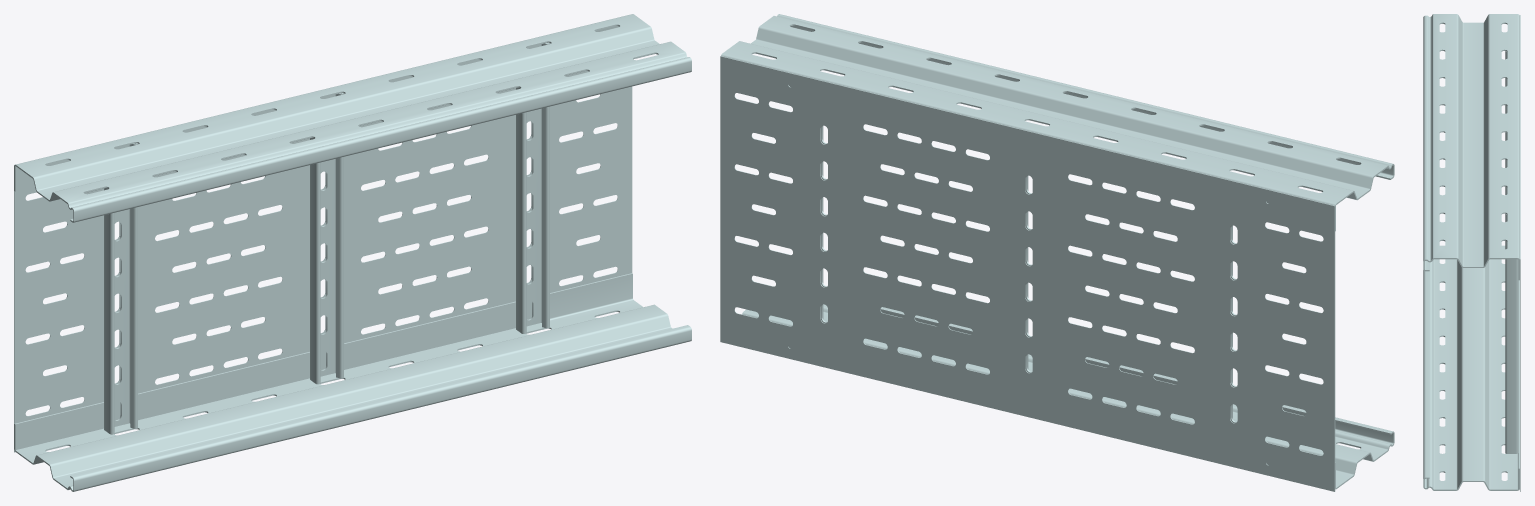
3 views of the same model, side by side, from view 1: azimuth 30°, elevation 25°; view 2: azimuth 150°, elevation 25°; view 3: azimuth 270°, elevation 25° (orthographic). The views are drawn at different scales.
Parts seen in each view (by area): view 1: THL с дном; view 2: THL с дном; view 3: THL с дном.
Part boxes in pixels (x1=…): THL с дном: x1=14, y1=14, x2=691, y2=491; THL с дном: x1=720, y1=14, x2=1394, y2=491; THL с дном: x1=1423, y1=14, x2=1520, y2=491.
Size of the model in its own units: 4.87 by 2.18 by 0.8219.
